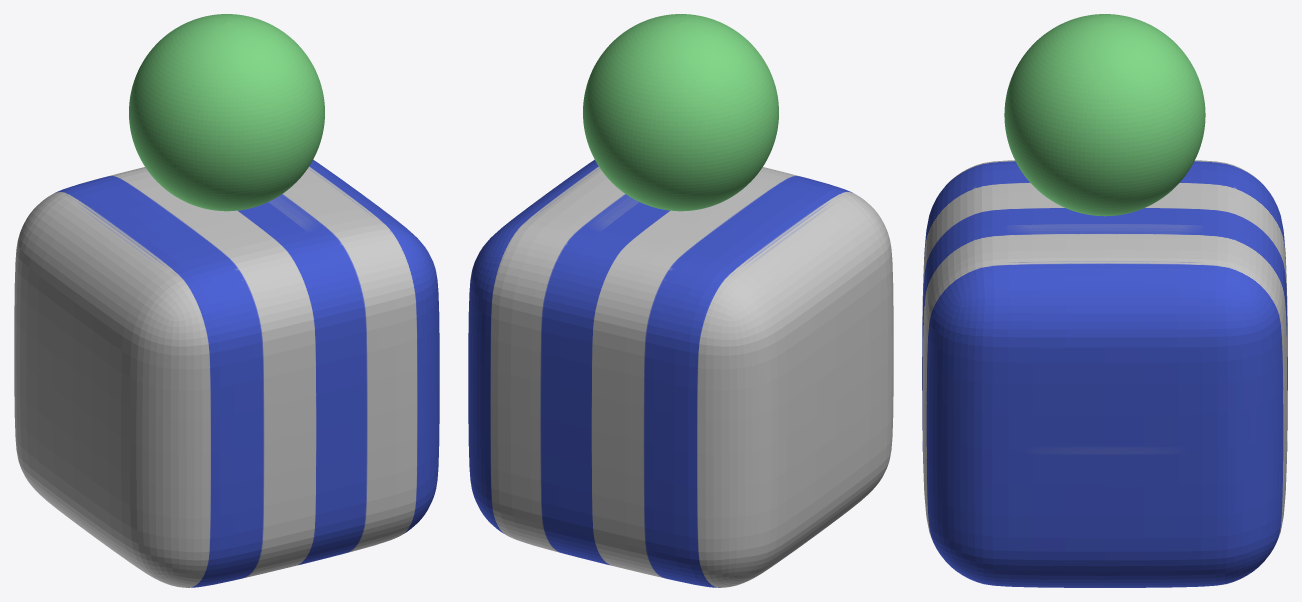
Rendered from BOD3_BMC0_BCC13_BPT1_FRC0_HEA0_HMC13_HCC0_HPT0_ELT0_ERT0_ELL0_ERL0_AP0_AAL0_AAR0_BEK0.fbx.
3 views of the same model, side by side, from view 1: azimuth 30°, elevation 25°; view 2: azimuth 150°, elevation 25°; view 3: azimuth 270°, elevation 25° (orthographic). The views are drawn at different scales.
Parts seen in each view (by area): view 1: Body, Head; view 2: Body, Head; view 3: Body, Head.
Part boxes in pixels (x1,y1,x2,y2): Body: [14, 159, 439, 587]; Head: [129, 14, 324, 211]; Body: [468, 159, 893, 587]; Head: [583, 14, 778, 211]; Body: [922, 160, 1287, 587]; Head: [1004, 14, 1205, 216].
Size of the model in its own units: 89.79 by 140 by 89.79.
2 materials, 2 textured.
